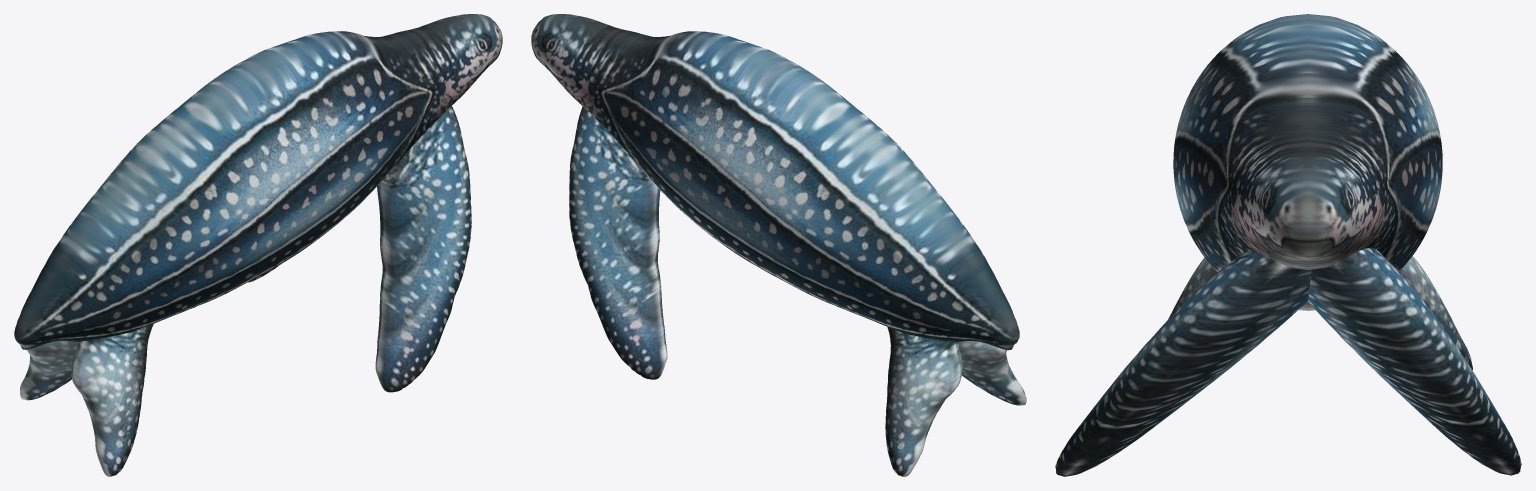
File: leatherback-turtle.glb
3 views of the same model, side by side, from view 1: azimuth 30°, elevation 25°; view 2: azimuth 150°, elevation 25°; view 3: azimuth 270°, elevation 25° (orthographic). The views are drawn at different scales.
Visible parts, largest first — view 1: mm_frame (43); view 2: mm_frame (43); view 3: mm_frame (43).
Boxes of the visible parts, x1,y1,x2,y2 form: mm_frame (43): [14, 14, 502, 476]; mm_frame (43): [531, 14, 1026, 476]; mm_frame (43): [1055, 14, 1521, 476].
Bounding box in the file's own units: 8.45 × 5.66 × 4.69.
Materials: 1 (1 with a texture image).
